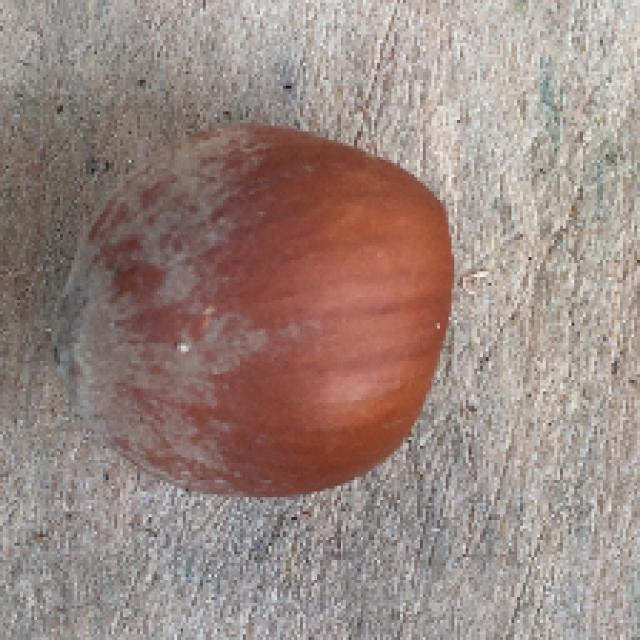qualityHazelnut: (57, 117, 460, 499)
